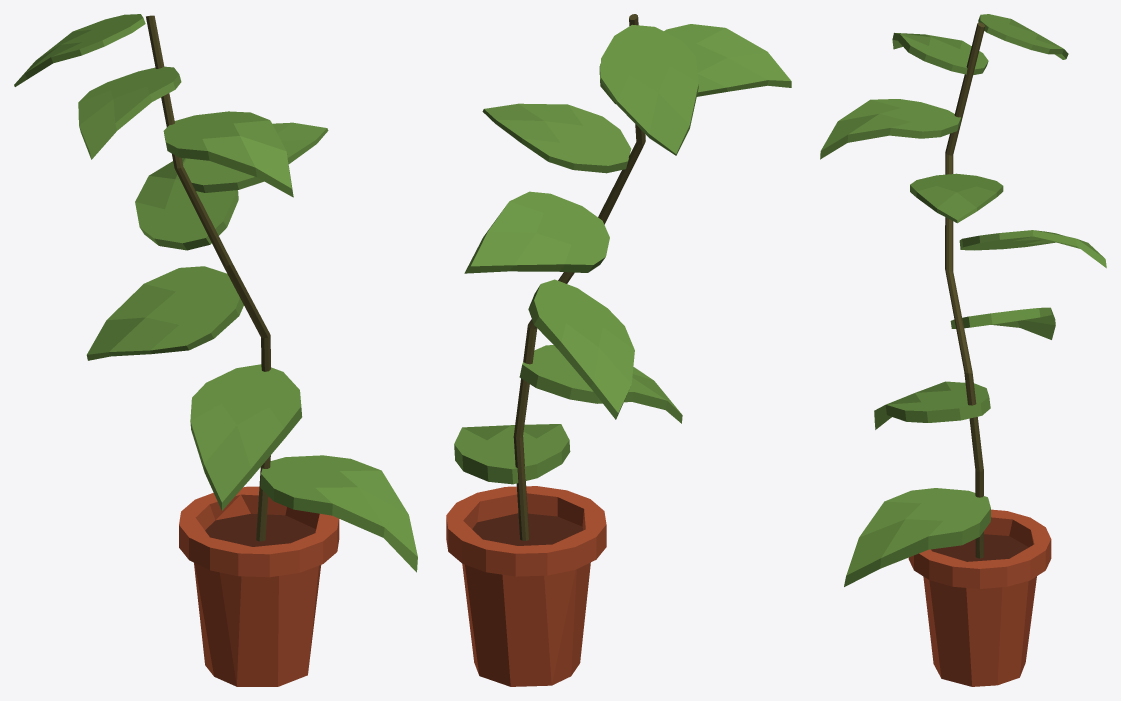
Rendered from plant_vase_1.fbx.
3 renders of one model, left to right at view 1: azimuth 30°, elevation 25°; view 2: azimuth 150°, elevation 25°; view 3: azimuth 270°, elevation 25°, orthographic. The views are drawn at different scales.
Parts seen in each view (by area): view 1: BezierCurve; view 2: BezierCurve; view 3: BezierCurve.
Boxes of the visible parts, x1,y1,x2,y2 form: BezierCurve: [14, 14, 417, 686]; BezierCurve: [446, 14, 791, 686]; BezierCurve: [820, 14, 1106, 686].
Bounding box in the file's own units: 114 × 237 × 103.
